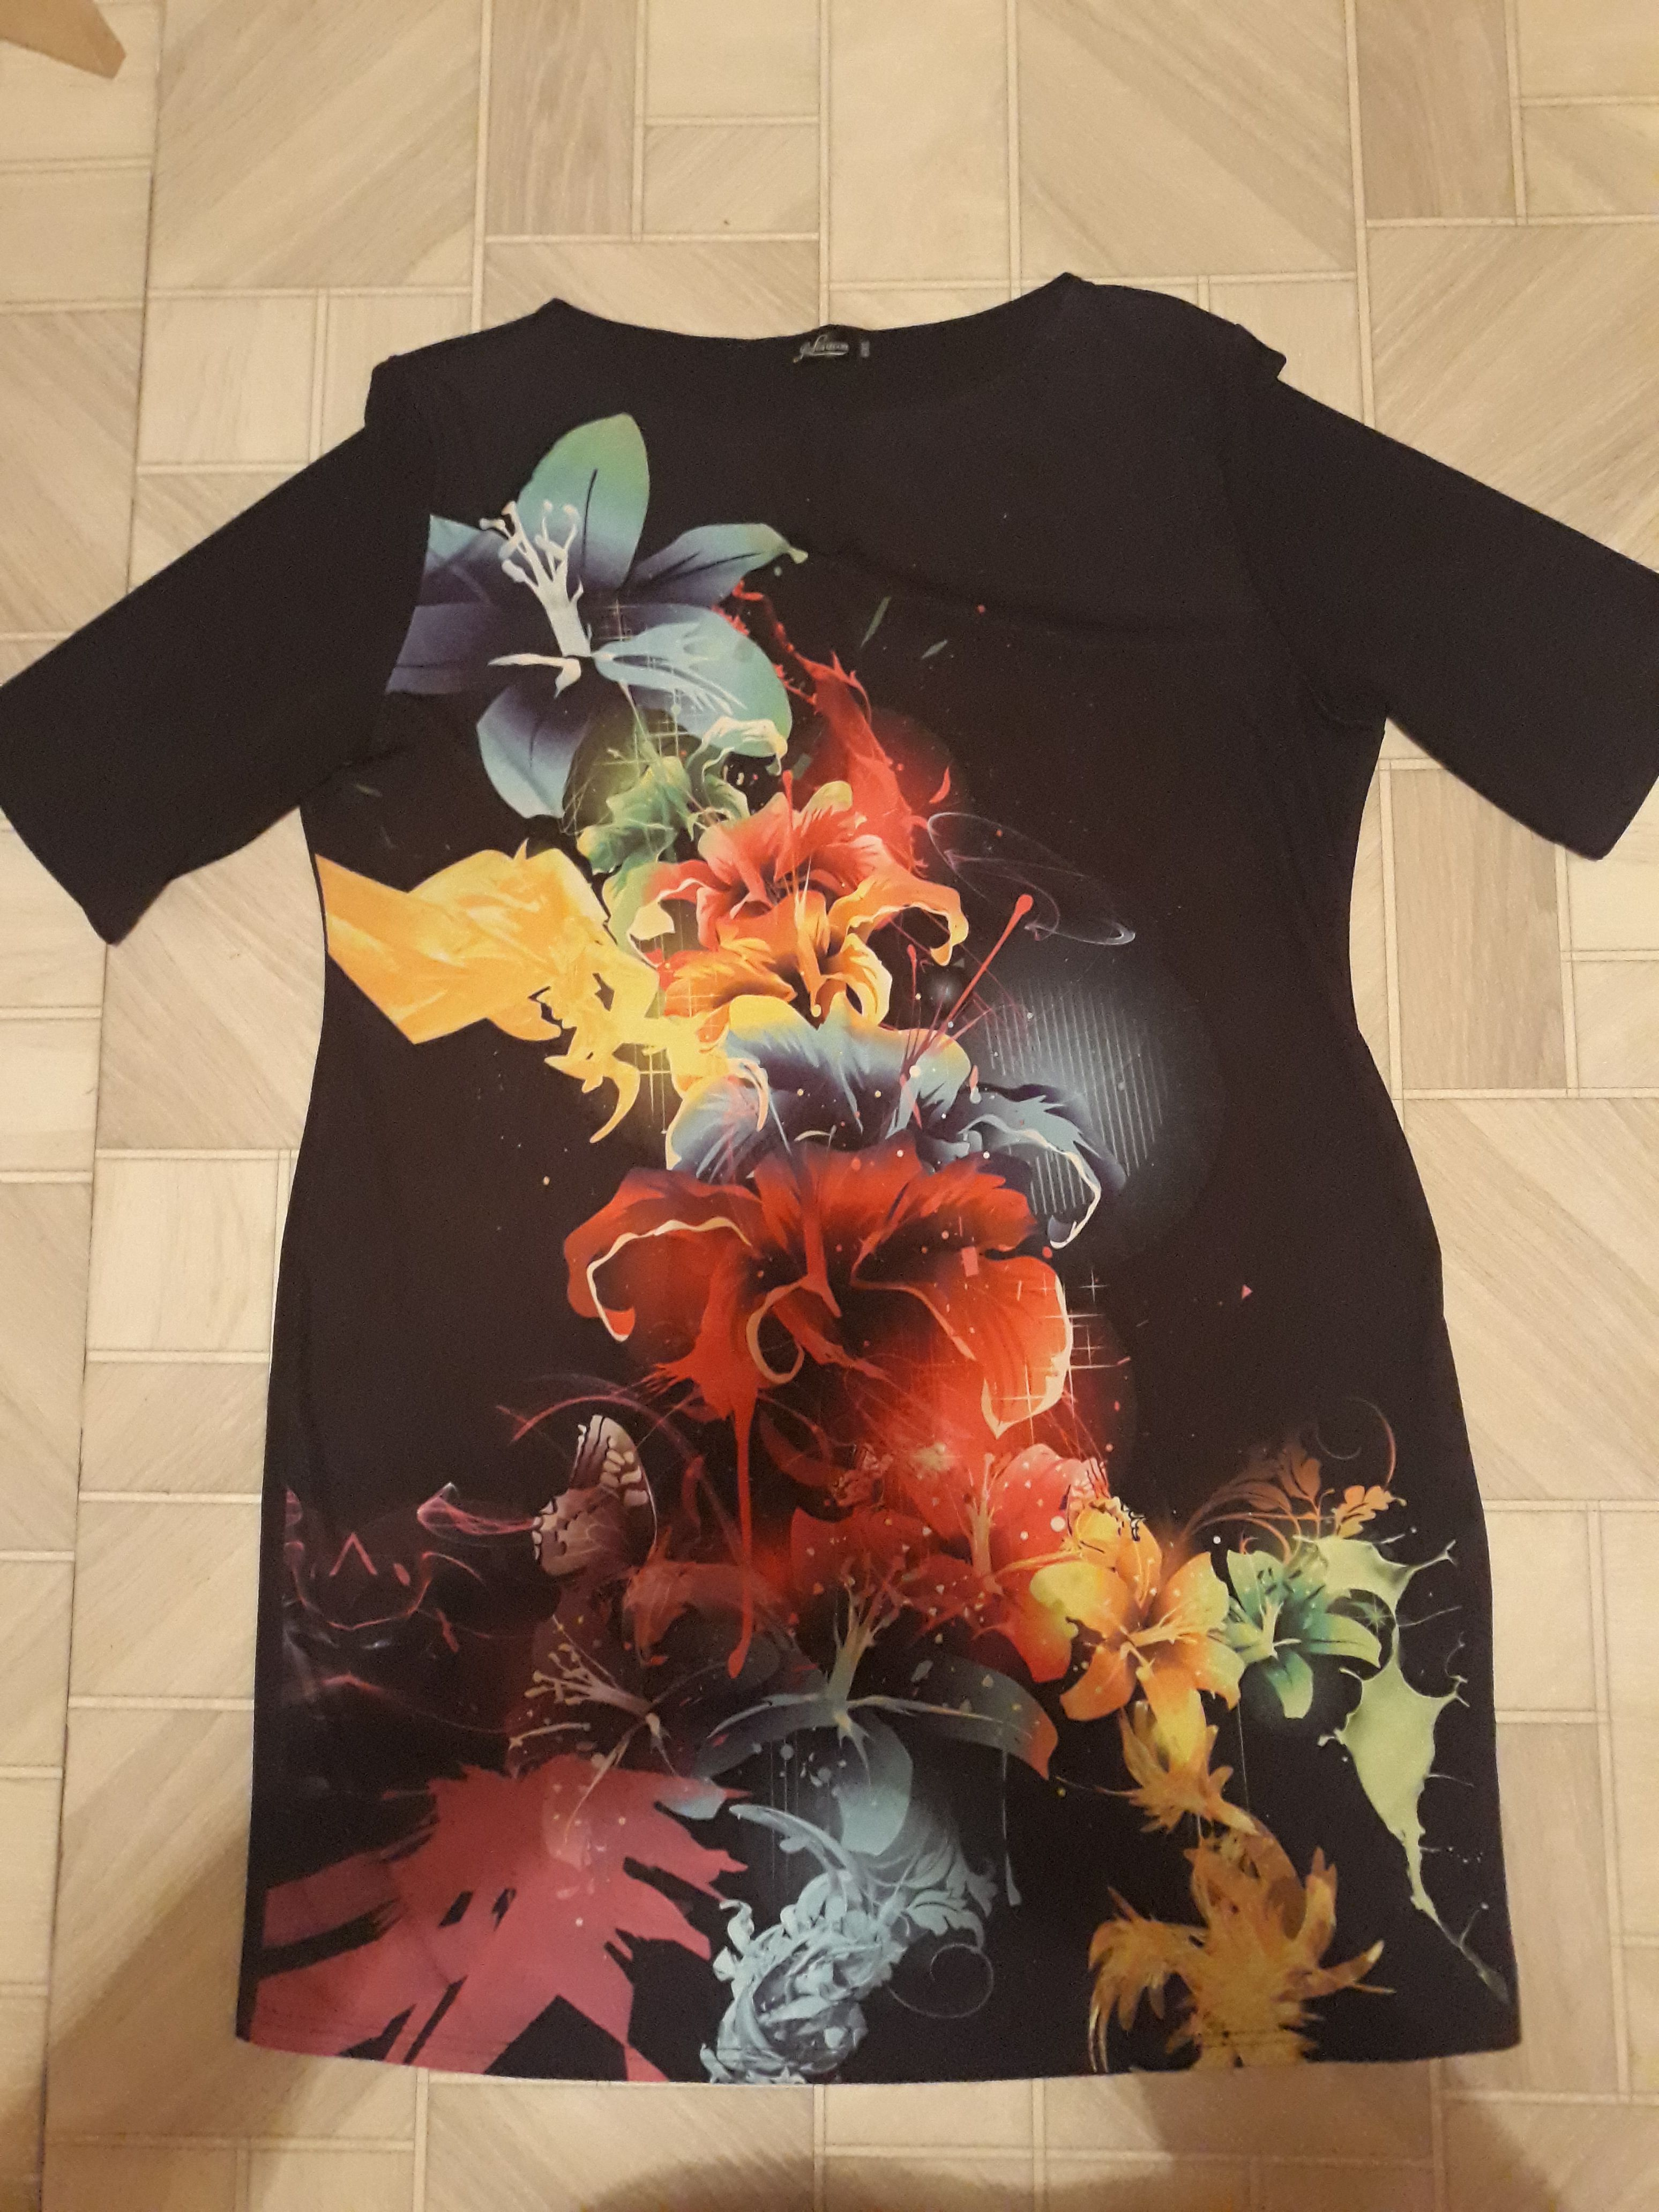clothes: (0, 280, 1659, 2097)
